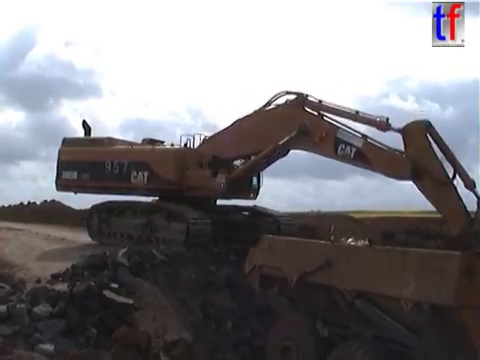excavator: (52, 88, 479, 297)
truck: (240, 213, 480, 360)
